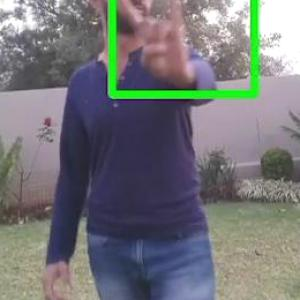takeoff-hand: (107, 0, 196, 87)
